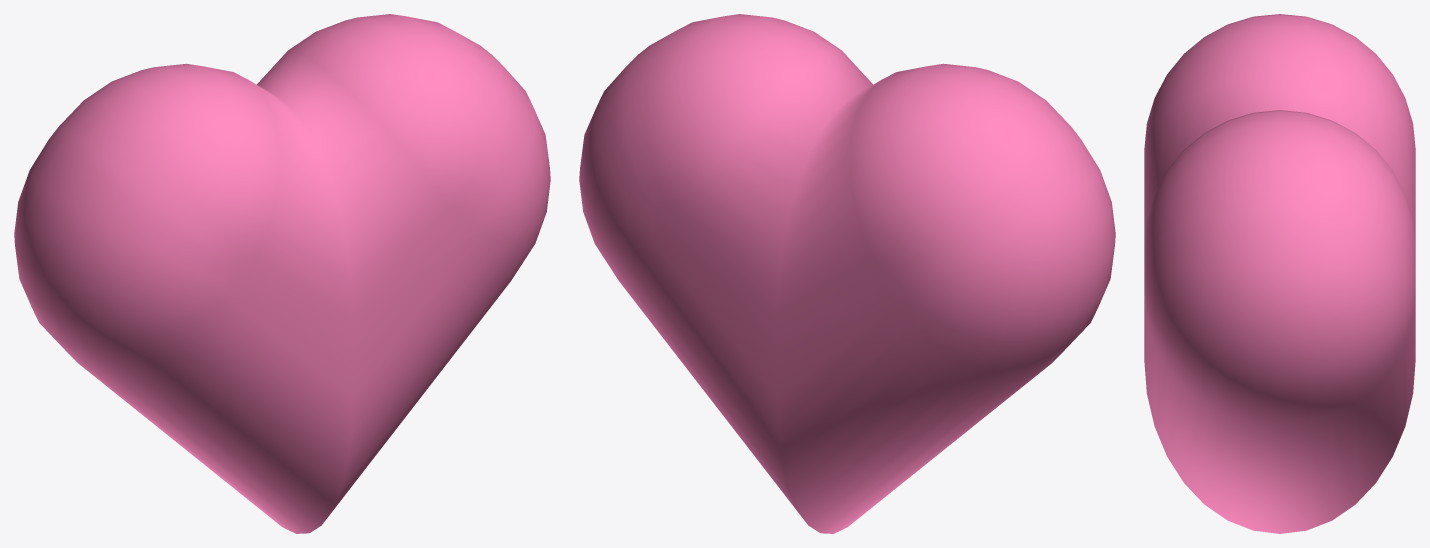
File: hamburger.glb
3 views of the same model, side by side, from view 1: azimuth 30°, elevation 25°; view 2: azimuth 150°, elevation 25°; view 3: azimuth 270°, elevation 25° (orthographic). The views are drawn at different scales.
Visible parts, largest first — view 1: Cube; view 2: Cube; view 3: Cube.
Boxes of the visible parts, left/top/right/bottom form: Cube: left=14, top=14, right=550, bottom=533; Cube: left=579, top=14, right=1115, bottom=533; Cube: left=1144, top=14, right=1415, bottom=533.
Size of the model in its own units: 13.75 by 12.49 by 6.71.
Materials: 1 (1 with a texture image).
